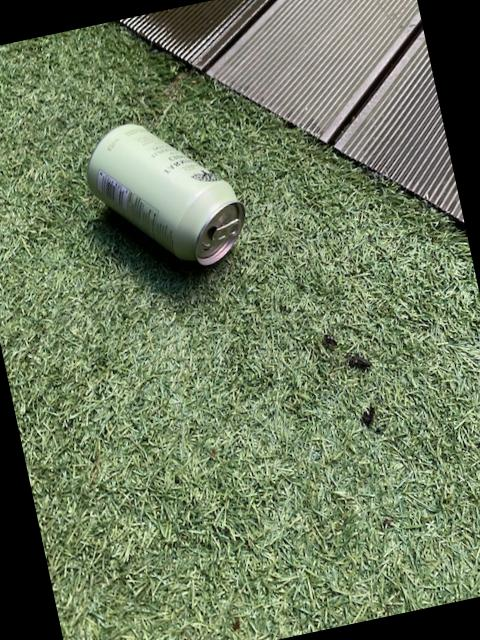metal: (120, 0, 464, 219), (88, 121, 244, 262)
